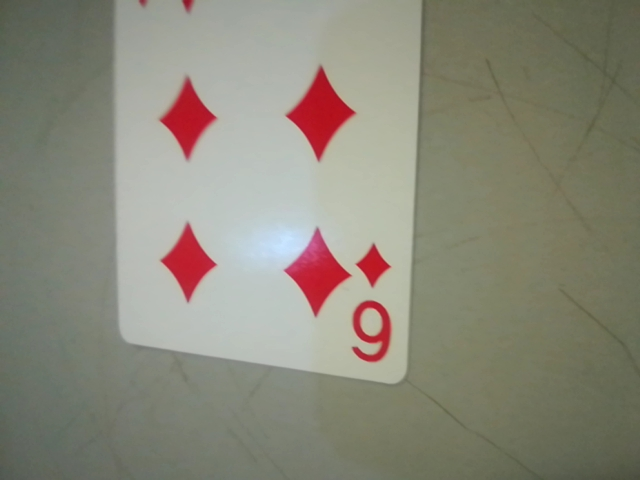fk 6: (340, 235, 405, 373)
